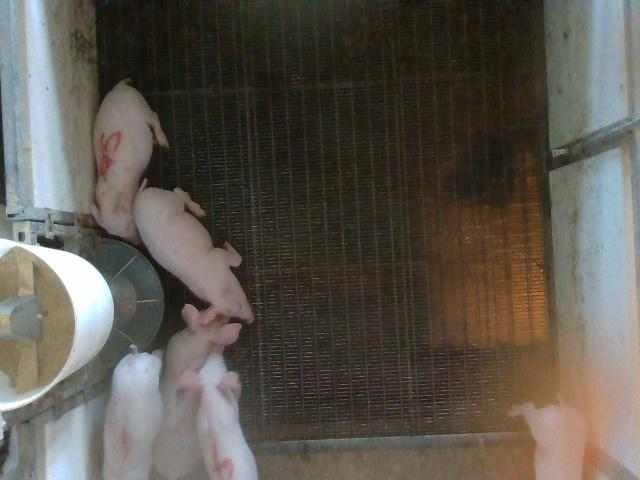pig-1: (102, 345, 164, 479)
pig-3: (152, 305, 241, 479)
pig-4: (181, 354, 256, 480)
pig-5: (91, 79, 169, 244)
